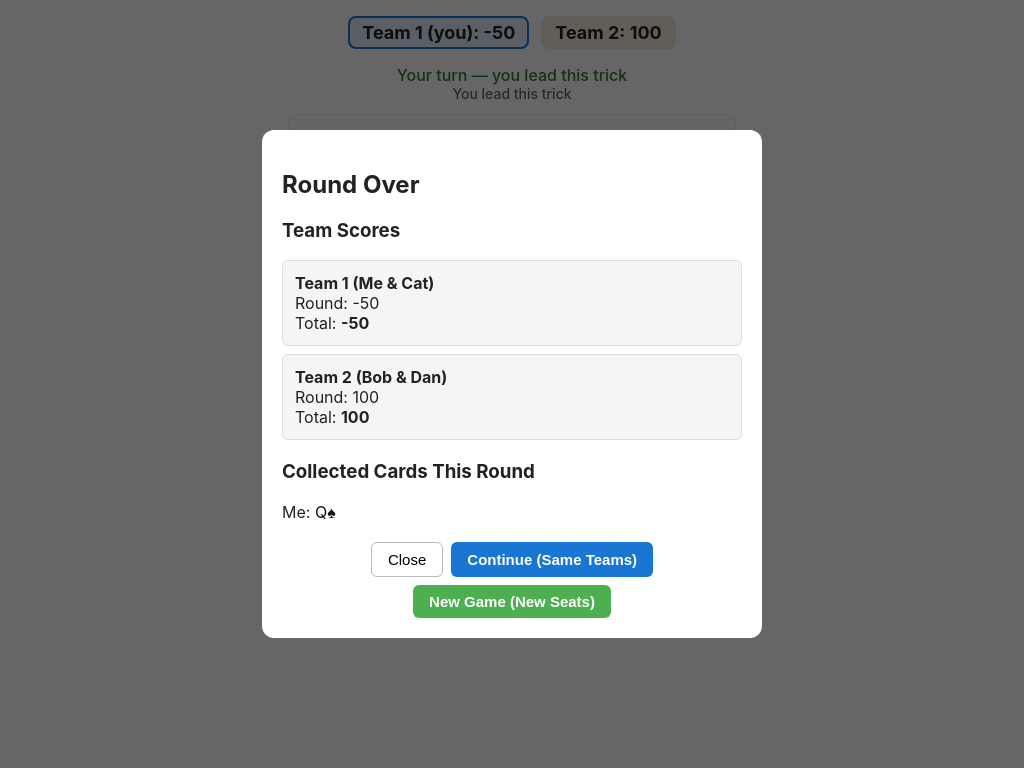
Test: GameTable › shows the results when a hand ends and lets the host deal the next one
Expected: the dialog shows "Round Over", [282,170,419,199]
What coordinates should you click on to do the following:
click the button "Continue (Same Teams)"
I would click on:
 (552, 560)
Its box is [451,542,653,577].
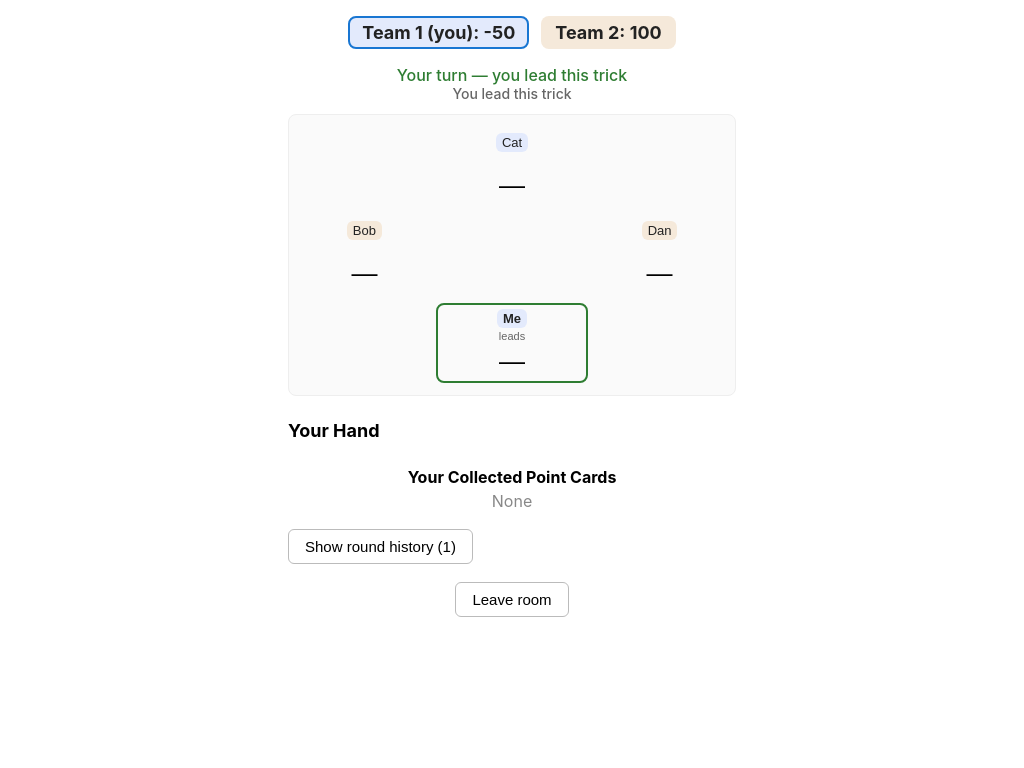
Now the dialog is gone
